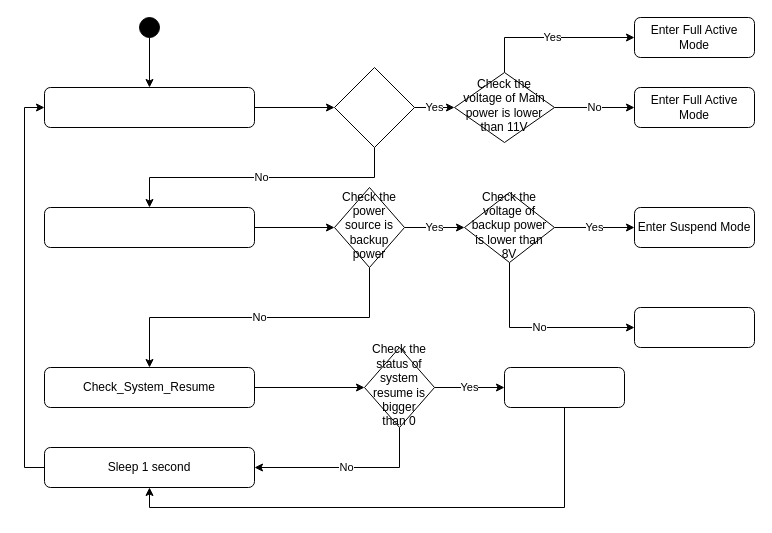
Some shapes in this 772 by 533 pixel diagram are drawn without their labels. Here are the shapes that lost their labels. From the top down, the centre of each, then its label:
pixel 149 107: Check_Full_Middle_Active_Mode
pixel 374 107: Check the power source is Main power
pixel 149 227: Check_Suspend_Sleep_Mode
pixel 694 327: Enter Sleep Mode
pixel 564 387: System wake up and do something
